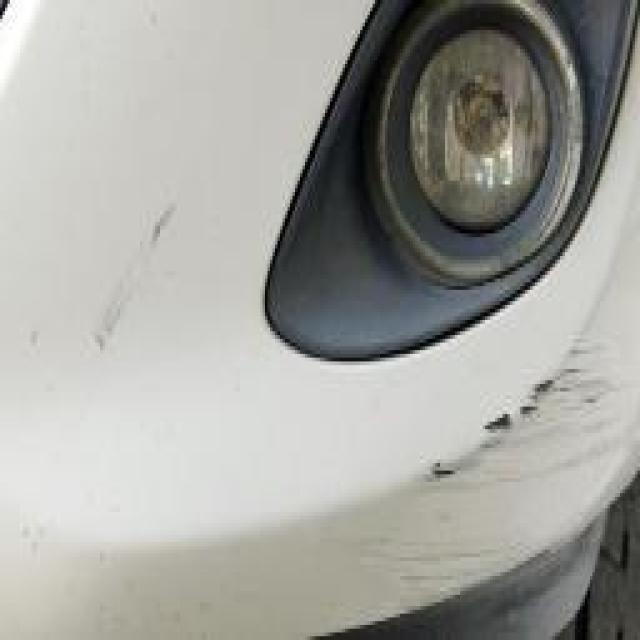Bumper: (10, 64, 638, 640)
